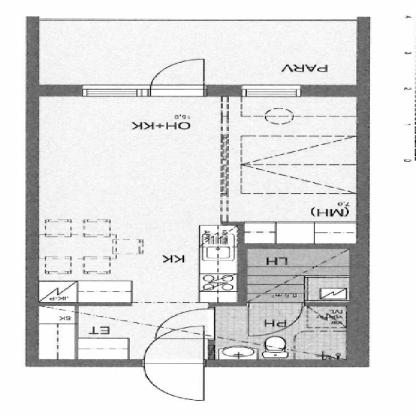door: (134, 324, 214, 404), (152, 304, 221, 342), (150, 54, 209, 96), (248, 298, 304, 339)
window: (79, 86, 149, 96), (241, 88, 301, 99)
zone: (37, 96, 354, 301), (37, 19, 359, 86), (36, 305, 220, 362), (212, 304, 348, 359), (247, 248, 350, 299)
